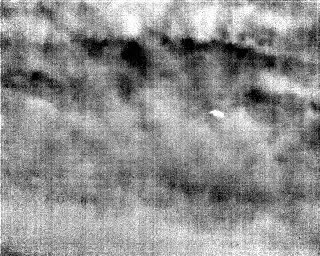BIRD: (208, 107, 227, 122)
